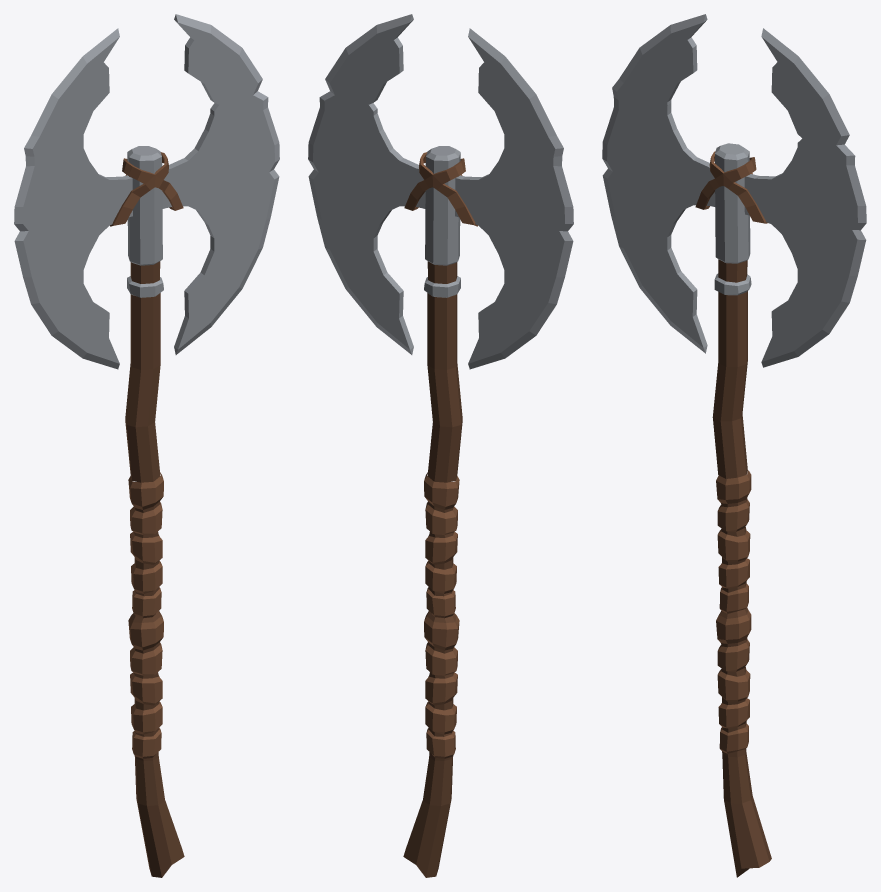
File: Axe_Double.glb
3 renders of one model, left to right at view 1: azimuth 30°, elevation 25°; view 2: azimuth 150°, elevation 25°; view 3: azimuth 330°, elevation 25°, orthographic.
Visible parts, largest first — view 1: Axe_Double; view 2: Axe_Double; view 3: Axe_Double.
Part boxes in pixels (x1,y1,x2,y2): Axe_Double: [14, 14, 279, 877]; Axe_Double: [308, 14, 573, 877]; Axe_Double: [602, 14, 866, 877].
Size of the model in its own units: 2.06 by 6.35 by 0.2609.
